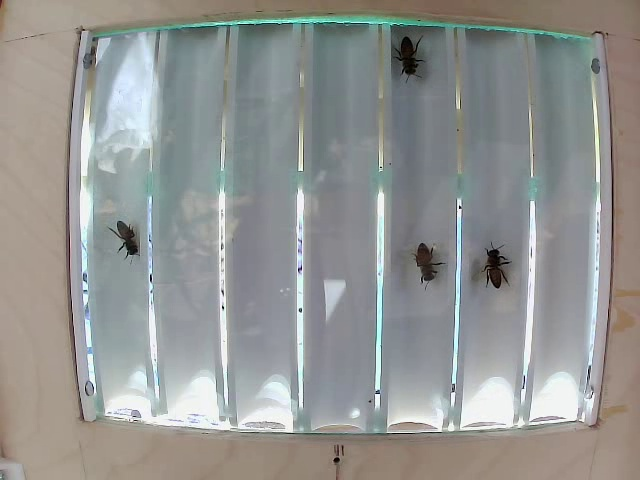bee: (104, 208, 153, 275), (417, 236, 457, 306), (376, 40, 439, 82), (475, 243, 508, 293)
